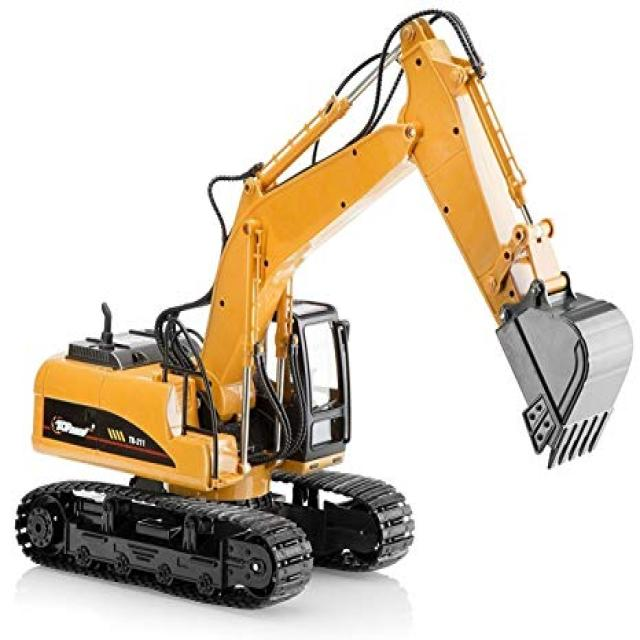excavator: (5, 9, 640, 608)
